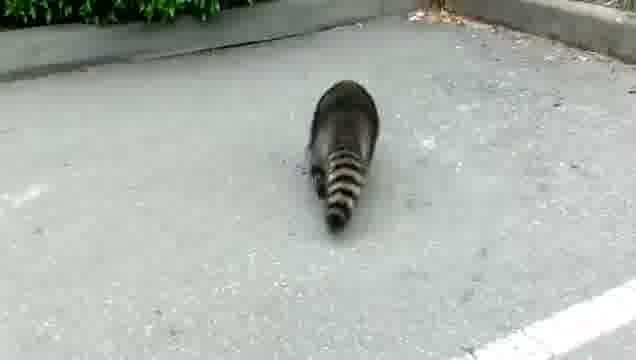raccoon: (305, 76, 387, 237)
